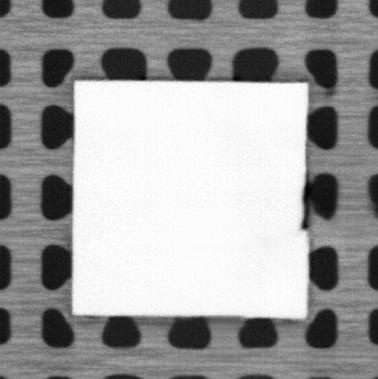DIE_BROKEN: (300, 181, 311, 232)
